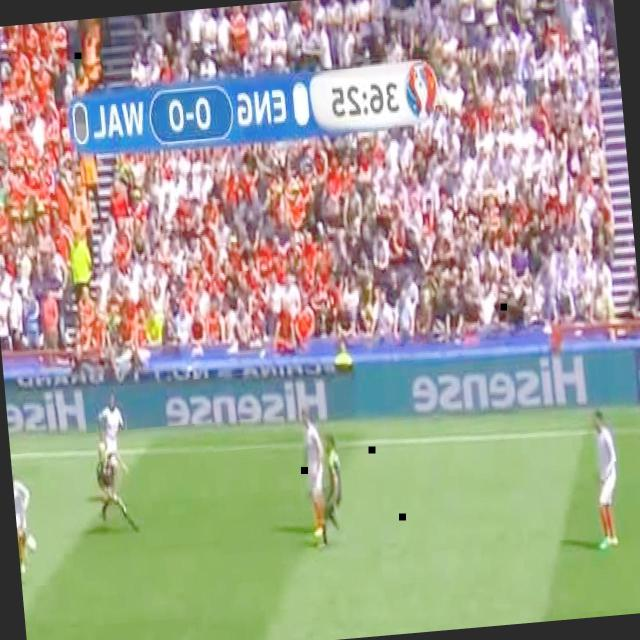ball: (25, 535, 37, 555)
player-white: (310, 433, 348, 550), (94, 442, 140, 534), (12, 470, 36, 574), (95, 392, 126, 470)
